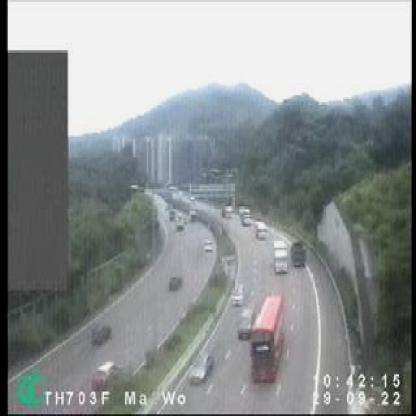Bus: (252, 293, 288, 388)
Car: (185, 352, 217, 379), (92, 361, 120, 390), (90, 322, 112, 347), (238, 303, 251, 340), (218, 204, 233, 222), (231, 283, 243, 305), (168, 276, 180, 291), (200, 237, 212, 252), (188, 208, 197, 222), (173, 220, 182, 231)
Truck: (269, 237, 290, 274), (290, 239, 309, 267), (237, 201, 252, 224), (255, 222, 266, 236)
